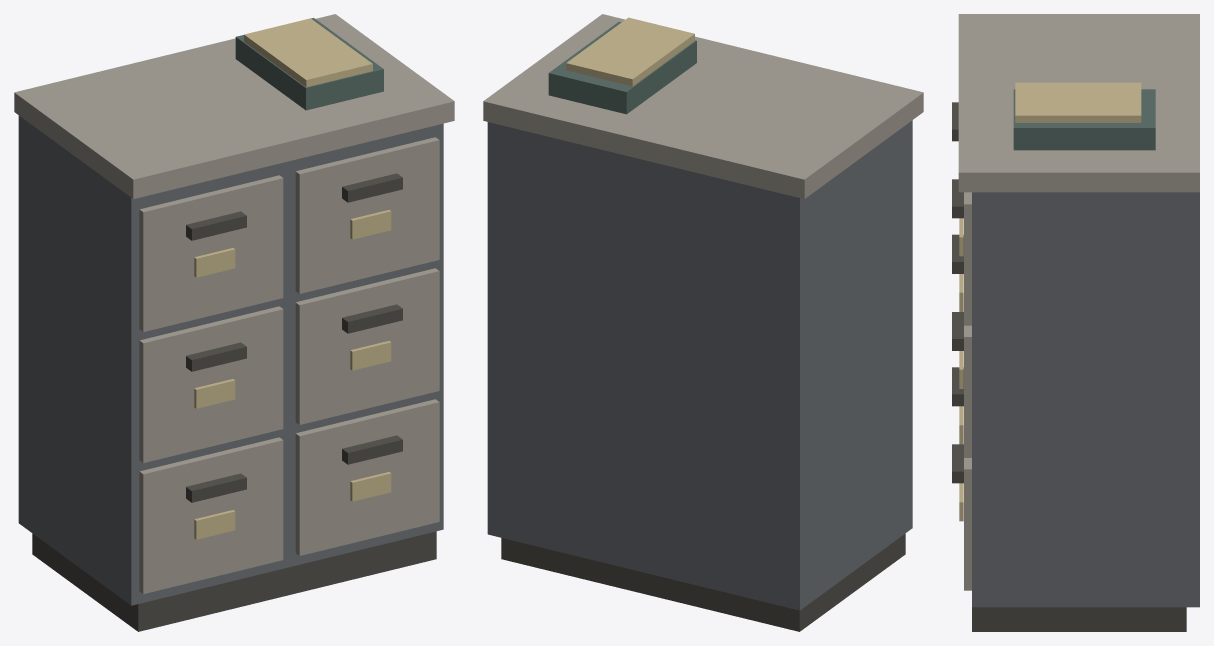
The model's file is prop-filing-cabinet.glb.
The picture shows the model from 3 angles, left to right: view 1: azimuth 30°, elevation 25°; view 2: azimuth 150°, elevation 25°; view 3: azimuth 270°, elevation 25°; orthographic projection.
Visible parts, largest first — view 1: filing_cabinet; view 2: filing_cabinet; view 3: filing_cabinet.
Part boxes in pixels (x1,y1,x2,y2): filing_cabinet: (14,14,454,631); filing_cabinet: (483,14,923,631); filing_cabinet: (952,14,1199,631).
Size of the model in its own units: 0.7 by 1.02 by 0.4625.
